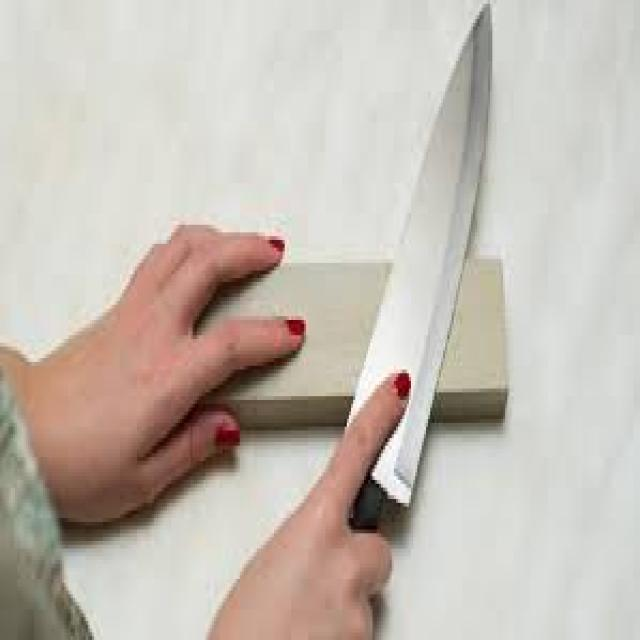Knife: (347, 0, 492, 530)
